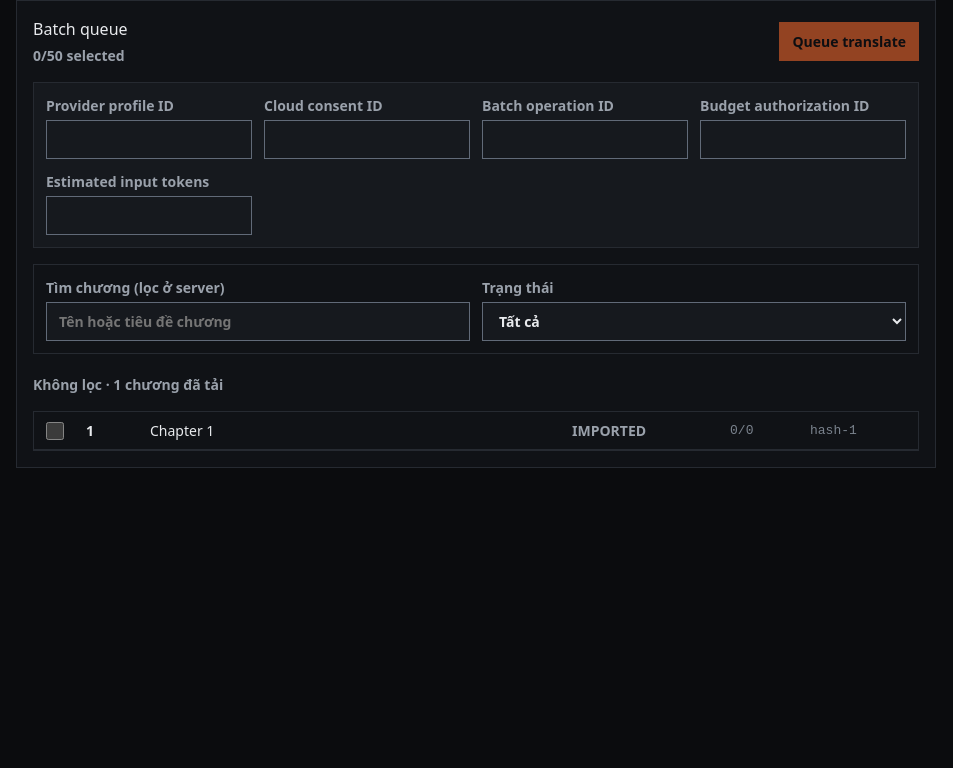
Test: BatchQueue (U07 round 3 - theo dõi batch) › chỉ mở theo dõi sau khi enqueue và hiển thị bảng với đúng số job qua store dùng chung
Expected: the text "Chapter 1" is shown, 150,421 -> 214,440
Step 1. Click the checkbox → (55, 430), box 46,422 -> 64,440
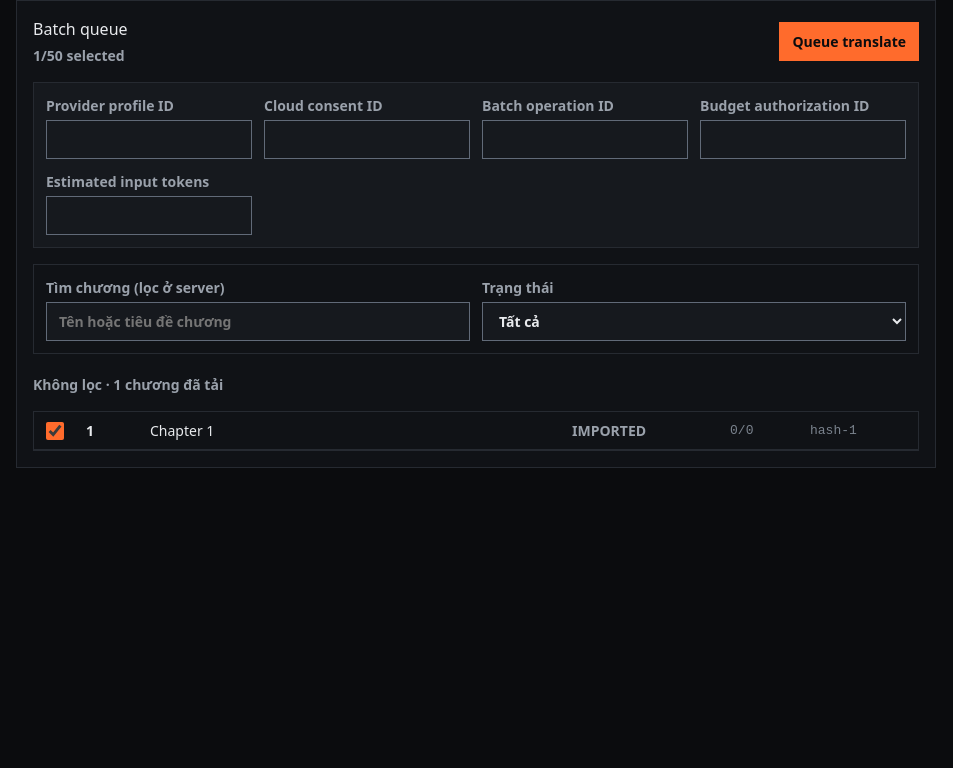
Expected: the text "1/50 selected" is shown, 33,45 -> 128,66
Step 2. Type "prof-1" into the field labelled "Provider profile ID" → (149, 140), box 46,120 -> 252,159
Step 3. Type "consent-1" into the field labelled "Cloud consent ID" → (367, 140), box 264,120 -> 470,159
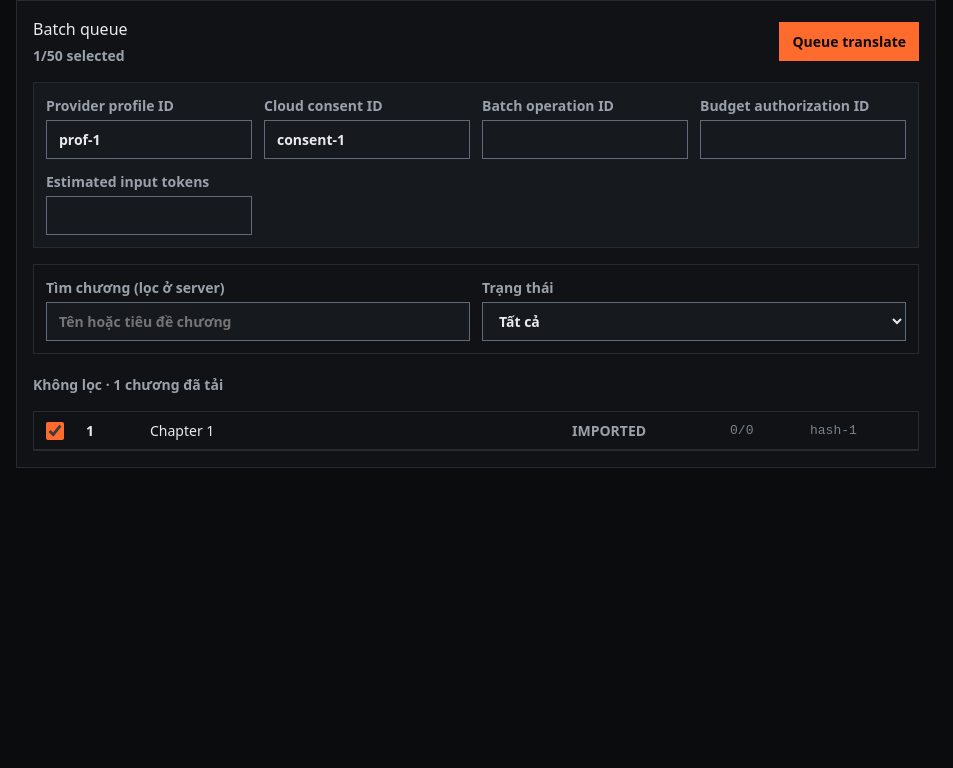
Step 4. Type "quote-1" into the field labelled "Batch operation ID" → (585, 140), box 482,120 -> 688,159
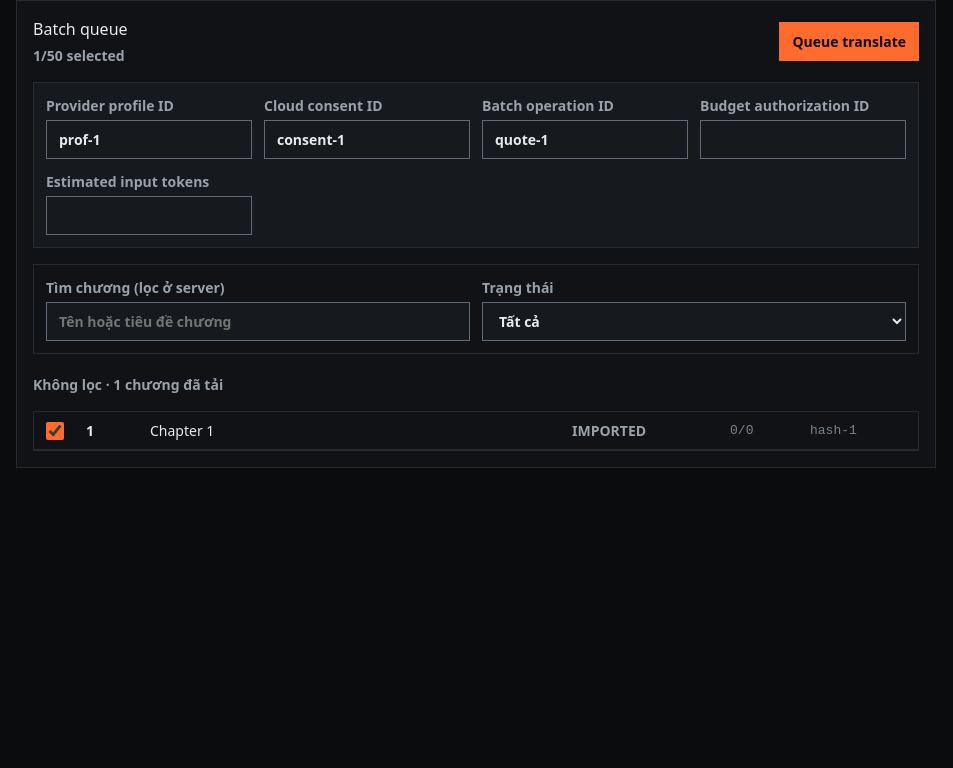
Step 5. Type "budget-1" into the field labelled "Budget authorization ID" → (803, 140), box 700,120 -> 906,159
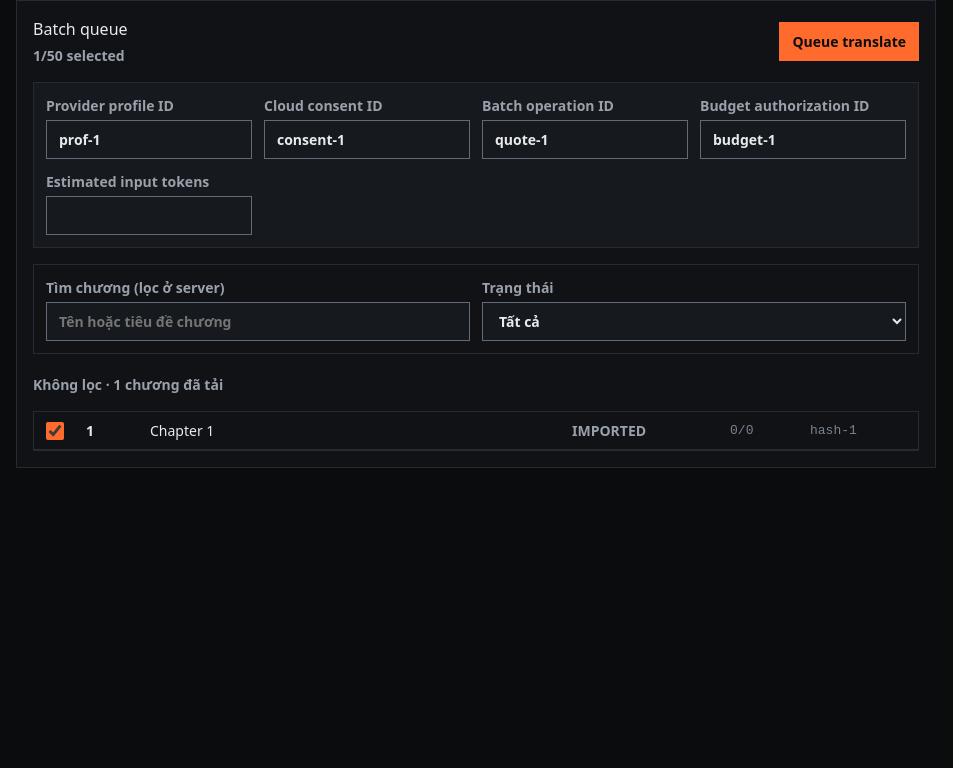
Step 6. Type "120" into the field labelled "Estimated input tokens" → (149, 216), box 46,196 -> 252,235
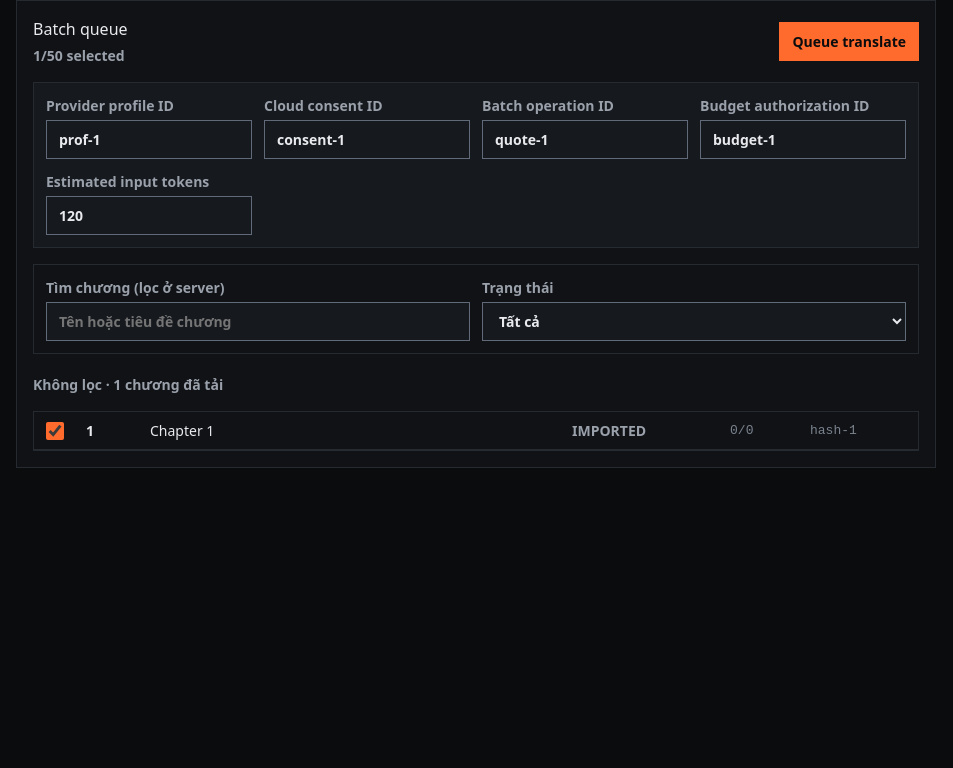
Step 7. Click the button "Queue translate" → (849, 42), box 779,22 -> 919,61
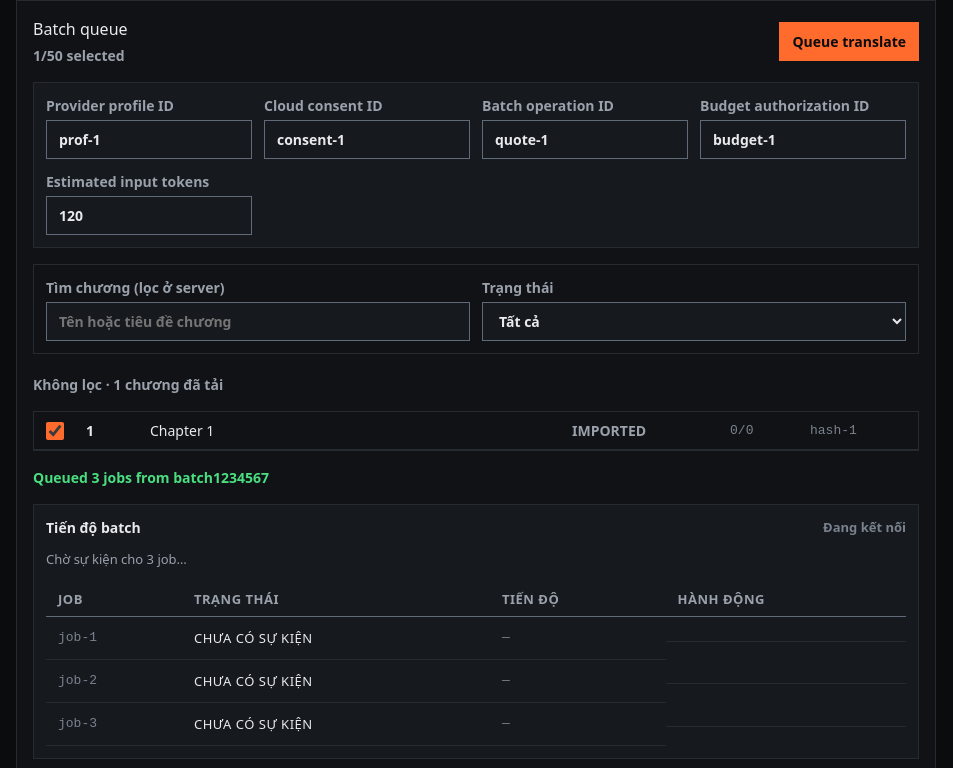
Expected: the text "Queued 3 jobs from batch1234567" is shown, 33,468 -> 269,487
Expected: the heading "Tiến độ batch" is shown, 46,517 -> 141,538
Expected: the number of rows is 4, 46,582 -> 906,616; 46,616 -> 906,659; 46,659 -> 906,702; 46,702 -> 906,745
